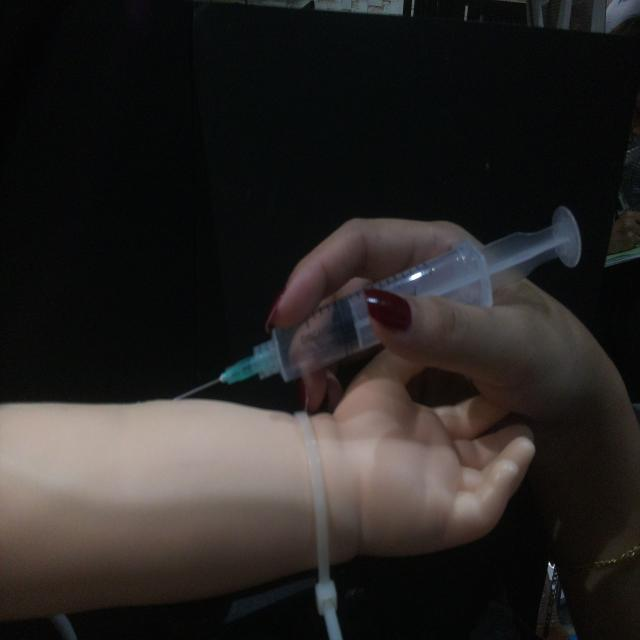17deg: (170, 201, 584, 403)
